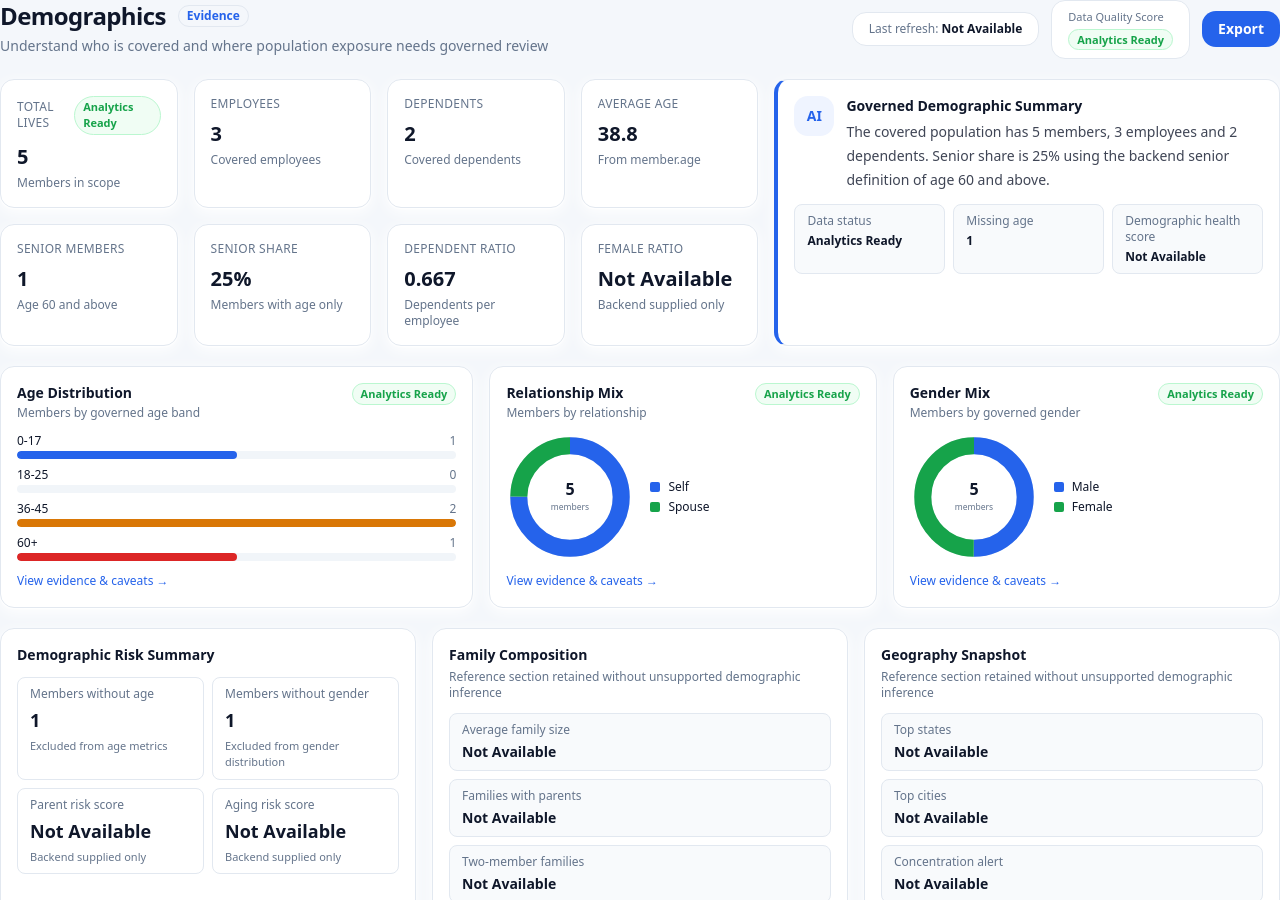
Scenario: Demographics dashboard (governed /metrics/demographics) › opens the evidence drawer
This screenshot has width=1280, height=900.
Check: the element with test id "demo-age" is shown, box x1=17 y1=382 x2=456 y2=590
Click the button "View evidence & caveats →" below "60+". click: {"x": 93, "y": 580}
box: x1=17 y1=572 x2=168 y2=588
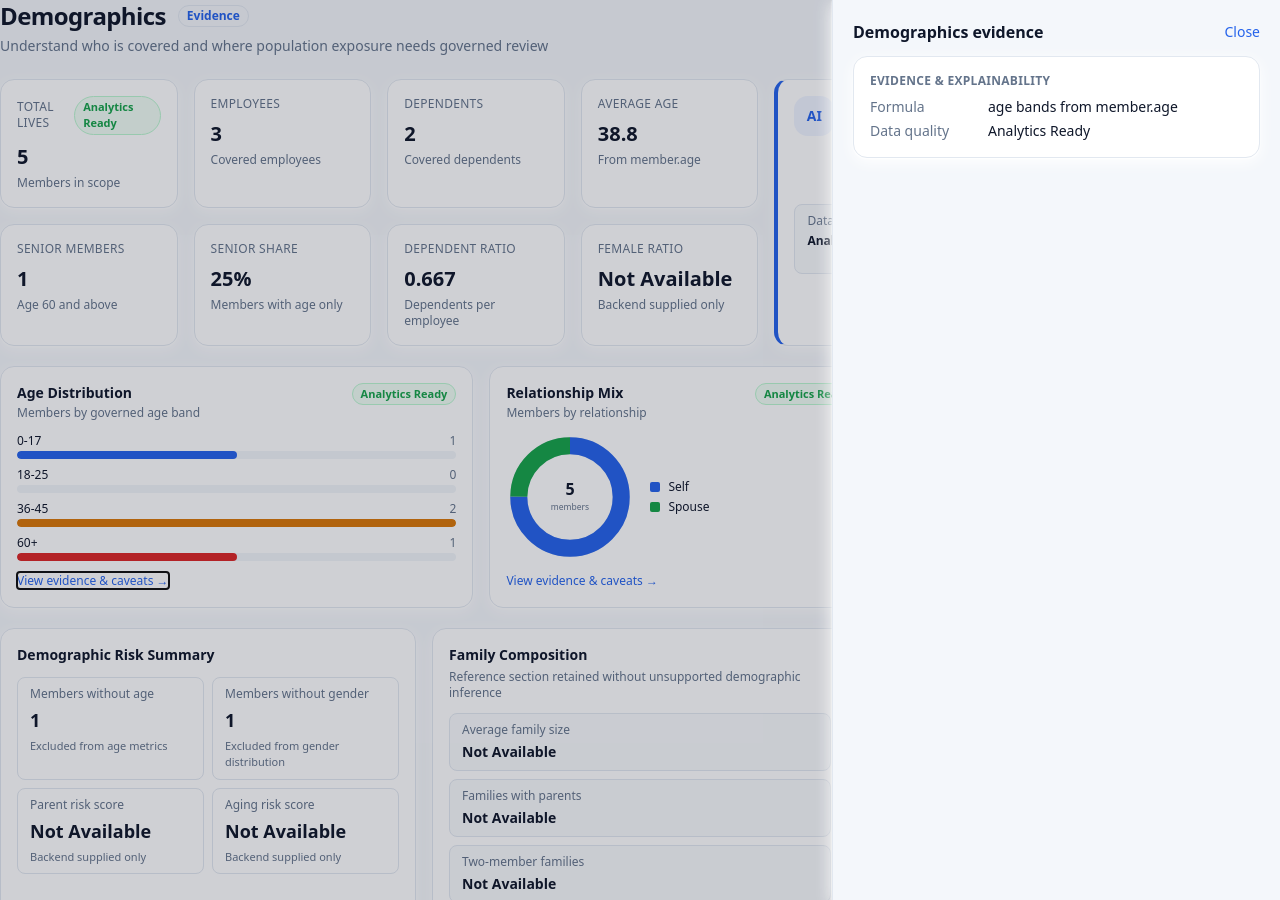
Check: the element with test id "evidence-drawer" is shown
